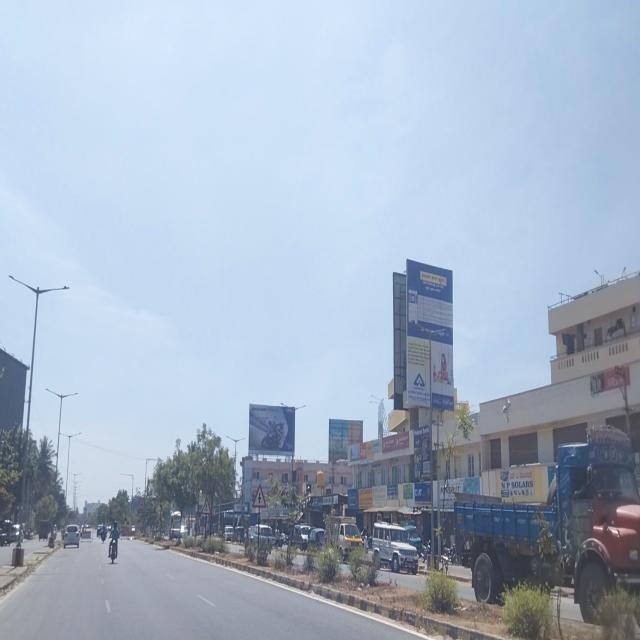bien_cam: (252, 483, 267, 508), (201, 498, 211, 516)
